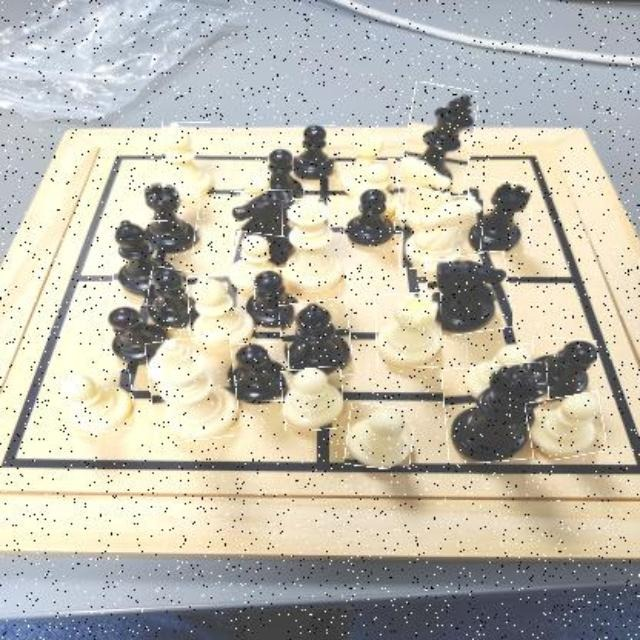black-bishop: (282, 301, 352, 381), (113, 220, 177, 298)
black-king: (403, 83, 476, 192)
black-knight: (427, 254, 511, 334), (233, 190, 295, 262)
black-pawn: (530, 337, 597, 401), (226, 343, 289, 403), (147, 267, 203, 330), (107, 306, 168, 361), (249, 270, 301, 326), (346, 188, 395, 246), (293, 124, 337, 179), (265, 149, 305, 201)
black-queen: (444, 364, 552, 464)
black-rook: (466, 178, 532, 253), (136, 182, 199, 254)
white-bishop: (188, 274, 255, 350), (161, 123, 214, 201)
white-king: (148, 336, 238, 442)
white-knight: (401, 194, 482, 274), (396, 160, 460, 235)
white-pawn: (527, 395, 605, 459), (58, 372, 133, 435), (346, 404, 413, 470), (281, 367, 344, 431), (466, 343, 533, 398), (231, 232, 287, 293), (350, 160, 399, 220), (241, 172, 271, 201)
white-queen: (282, 199, 345, 292)
white-rook: (375, 294, 441, 370), (340, 128, 392, 195)
